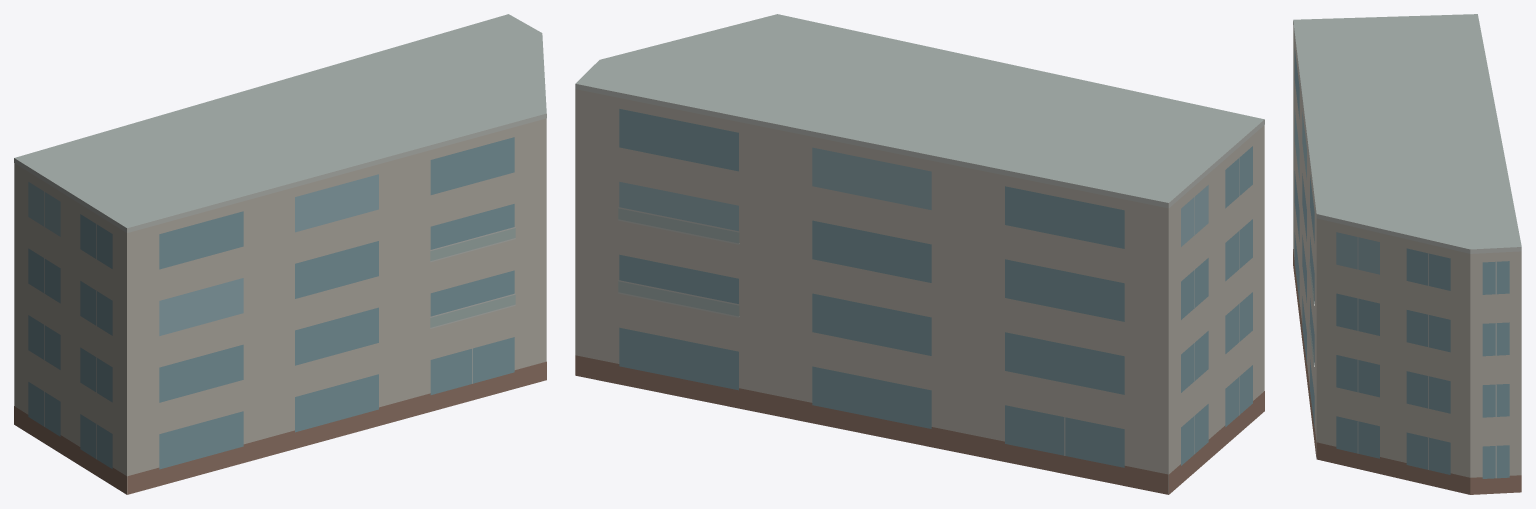
The model's file is survey-upis-32805326.glb.
The picture shows the model from 3 angles, left to right: view 1: azimuth 30°, elevation 25°; view 2: azimuth 150°, elevation 25°; view 3: azimuth 270°, elevation 25°; orthographic projection. The views are drawn at different scales.
Parts seen in each view (by area): view 1: survey-upis-32805326.tmp; view 2: survey-upis-32805326.tmp; view 3: survey-upis-32805326.tmp.
Part boxes in pixels (left/top/right/bottom): survey-upis-32805326.tmp: left=14, top=14, right=546, bottom=494; survey-upis-32805326.tmp: left=575, top=14, right=1264, bottom=494; survey-upis-32805326.tmp: left=1293, top=14, right=1521, bottom=494.
Size of the model in its own units: 27.58 by 13.4 by 11.32.
